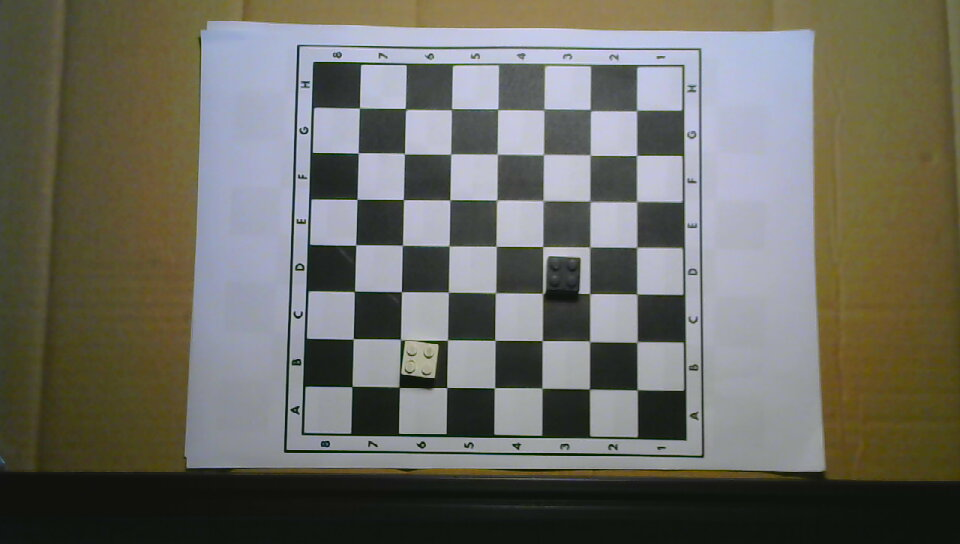bp: (546, 255, 581, 297)
wp: (401, 340, 439, 382)
